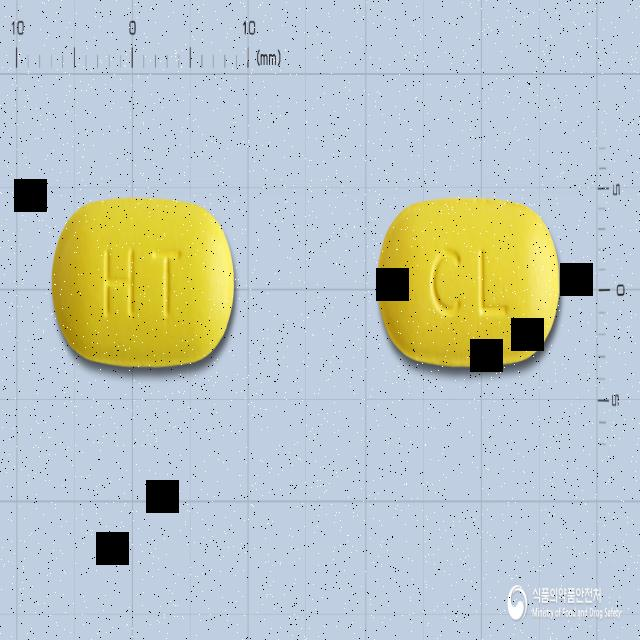Clathrocin -500mg: (377, 193, 560, 368), (52, 198, 235, 370)
